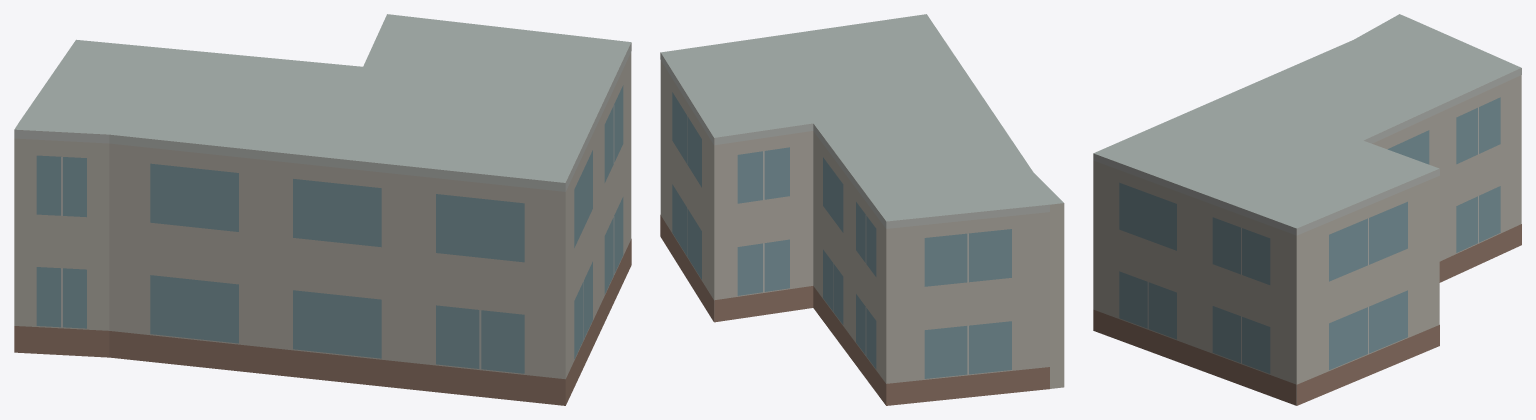
The model's file is survey-upis-32884859.glb.
3 renders of one model, left to right at view 1: azimuth 30°, elevation 25°; view 2: azimuth 150°, elevation 25°; view 3: azimuth 270°, elevation 25°, orthographic. The views are drawn at different scales.
Visible parts, largest first — view 1: survey-upis-32884859.tmp; view 2: survey-upis-32884859.tmp; view 3: survey-upis-32884859.tmp.
Boxes of the visible parts, x1,y1,x2,y2 form: survey-upis-32884859.tmp: [14, 14, 631, 405]; survey-upis-32884859.tmp: [660, 14, 1064, 405]; survey-upis-32884859.tmp: [1093, 14, 1521, 405].
Size of the model in its own units: 15.84 by 6.1 by 13.37.
